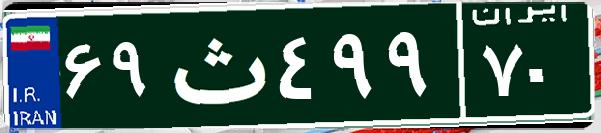0: (525, 38, 570, 115)
4: (273, 28, 330, 110)
6: (57, 26, 110, 107)
7: (475, 38, 525, 113)
9: (385, 28, 445, 110), (330, 28, 385, 110), (110, 28, 158, 105)
ث: (158, 15, 273, 115)
